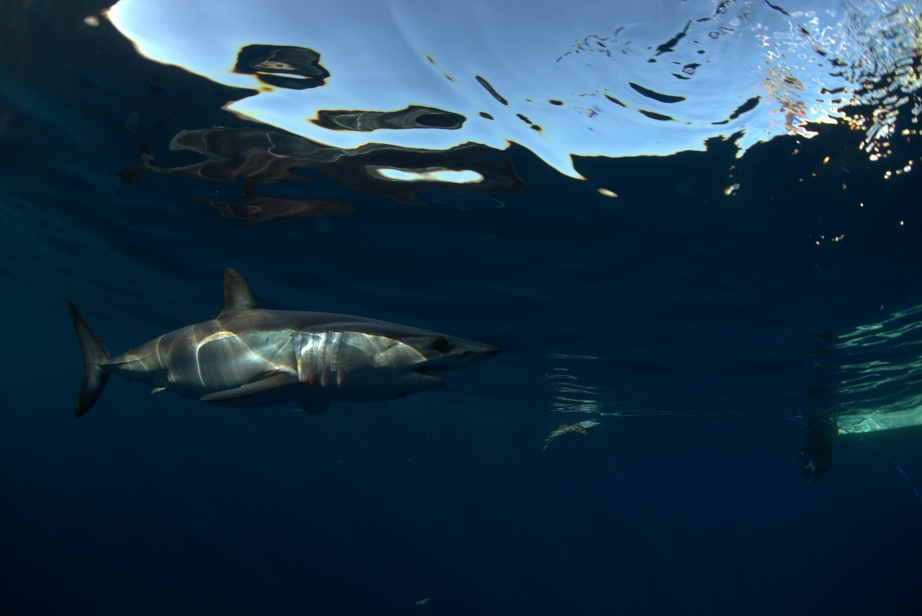Mako: (42, 263, 520, 439)
